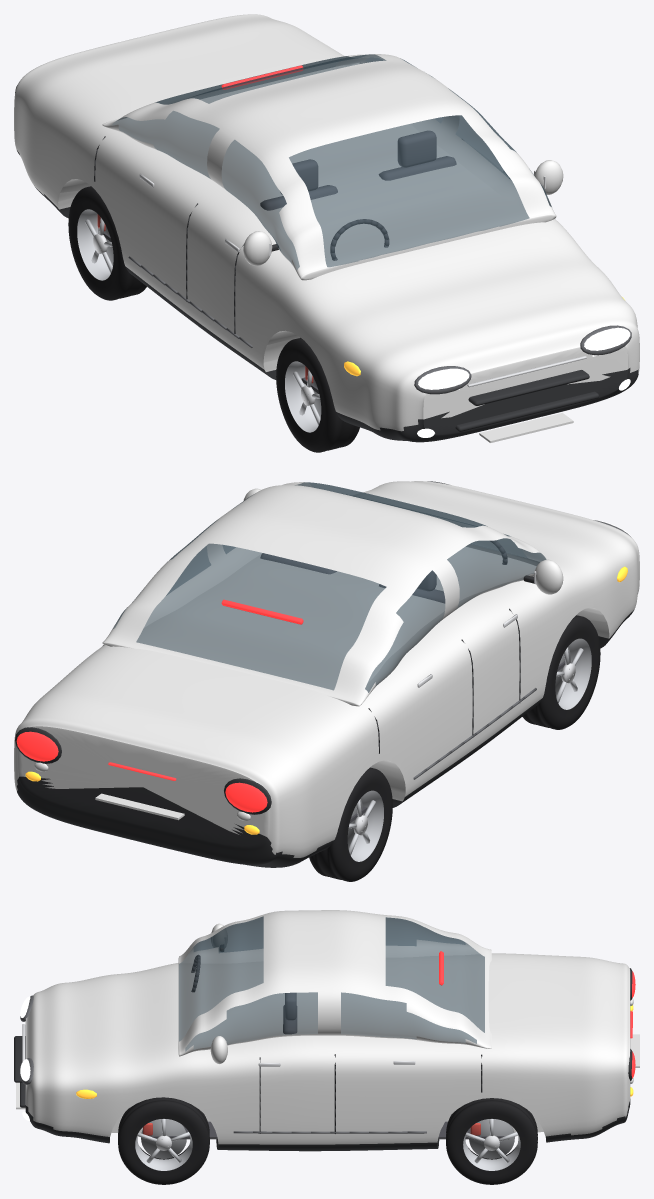
The model's file is voiture-hatch.glb.
3 renders of one model, top to bottom at view 1: azimuth 30°, elevation 25°; view 2: azimuth 150°, elevation 25°; view 3: azimuth 270°, elevation 25°, orthographic. The views are drawn at different scales.
Visible parts, largest first — view 1: carrosserie, habitacle, roue_av_g_m, roue_ar_g_m, calandre, appuie_tete.001, prise_air, plaque_av, phare, retro, siege_dos.001, phare.001 (+1 smaller); view 2: carrosserie, habitacle, roue_ar_g_m, roue_av_g_m, feu_ar.001, feu_ar, retro, plaque_ar, feu_stop_haut; view 3: carrosserie, habitacle, roue_av_d_m, roue_ar_d_m, jonc.001, calandre, plancher, retro.001.
Boxes of the visible parts, x1,y1,x2,y2 form: carrosserie: (14,14,639,442); habitacle: (102,54,556,280); roue_av_g_m: (276,337,359,452); roue_ar_g_m: (68,186,146,300); calandre: (468,370,589,405); appuie_tete.001: (397,130,436,167); prise_air: (455,391,598,431); plaque_av: (479,413,573,442); phare: (418,368,469,389); retro: (243,231,272,265); siege_dos.001: (379,156,456,180); phare.001: (584,327,630,350); carrosserie: (14,481,639,867); habitacle: (102,482,546,706); roue_ar_g_m: (309,767,392,881); roue_av_g_m: (522,615,600,729); feu_ar.001: (16,731,58,761); feu_ar: (225,782,267,812); retro: (534,559,563,594); plaque_ar: (95,793,184,820); feu_stop_haut: (221,599,303,624); carrosserie: (25,953,630,1151); habitacle: (178,910,491,1056); roue_av_d_m: (118,1097,209,1184); roue_ar_d_m: (446,1098,537,1184); jonc.001: (233,1131,426,1133); calandre: (14,1036,25,1082); plancher: (149,1121,508,1139); retro.001: (210,1036,227,1064).
Bounding box in the file's own units: 1.99 × 1.46 × 4.29.
